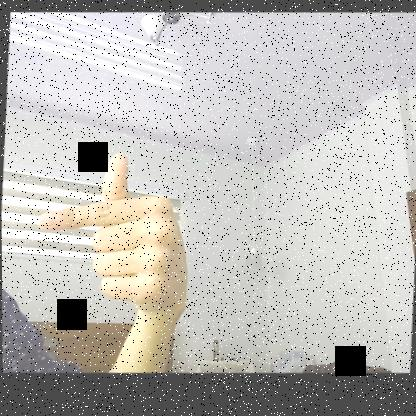T: (30, 145, 195, 329)
